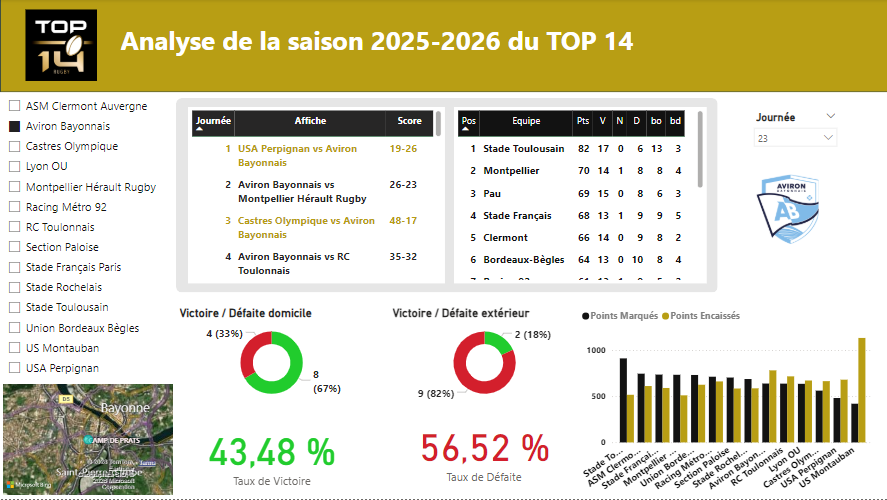

This screenshot's page, from the dashboard's own definition file:
{"tool":"powerbi","page":{"name":"Doublon de Doublon de Page 1","canvas":[1280,720],"ordinal":2},"visuals":[{"type":"shape","box":[254,142.6,780.1,280.3],"z":0},{"type":"slicer","title":"jj","fields":{"Values":["top14_teams.team_name"]},"box":[0,134.4,231.1,416.3],"z":1000},{"type":"map","title":"Stades","fields":{"Y":["top14_teams.latitude"],"X":["top14_teams.longitude"]},"box":[0,550.7,254,168.8],"z":2000},{"type":"shape","box":[0,0,1280,134.4],"z":3000},{"type":"textbox","box":[168.8,29.5,770.3,103.3],"z":4000},{"type":"tableEx","fields":{"Values":["top14_matches.journée","top14_matches.Affiche","top14_matches.Score final"]},"box":[270.4,155.7,370.4,254],"z":5000},{"type":"tableEx","fields":{"Values":["classements.position","classements.equipe","classements.points","classements.victoires","classements.nulls","classements.défaites","classements.bo","classements.bd"]},"box":[653.9,155.7,363.8,254],"z":6000},{"type":"slicer","fields":{"Values":["classements.journee"]},"box":[1075,155,140,70],"z":7000},{"type":"donutChart","title":"Victoire / Défaite domicile","fields":{"Y":["top14_matches.VictoiresDomicile","top14_matches.DefaiteDomicile"]},"box":[254,442.5,275.3,144.2],"z":8000},{"type":"donutChart","title":"Victoire / Défaite extérieur","fields":{"Y":["top14_matches.VictoiresExterieur","top14_matches.DefaiteExterieur"]},"box":[560.5,442.5,275.3,144.2],"z":9000},{"type":"card","fields":{"Values":["top14_matches.PourcentVictoire"]},"box":[285.2,591.7,213.1,127.8],"z":10000},{"type":"card","fields":{"Values":["top14_matches.PourcentDéfaite"]},"box":[596.6,591.7,201.6,114.7],"z":11000},{"type":"tableEx","fields":{"Values":["top14_teams.badge_url"]},"box":[1075,225,153.3,168.3],"z":12000},{"type":"shape","box":[1075.6,232.2,110,21.1],"z":13000},{"type":"clusteredColumnChart","fields":{"Category":["top14_teams.team_name"],"Y":["top14_matches.PointsMarques","top14_matches.PointsEncaisses"]},"box":[832.6,436,429.4,283.5],"z":14000},{"type":"image","box":[31.1,9.8,113.1,113.1],"z":15000}]}

Visuals, with their boxes in screenshot pixels (x1, y1, x2, y2), scaled from the page's 1280x720 canvas onto the 887x500 screenshot:
shape: bbox=[176, 99, 717, 294]
"jj" slicer: bbox=[0, 93, 160, 382]
"Stades" map: bbox=[0, 382, 176, 499]
shape: bbox=[0, 0, 886, 93]
textbox: bbox=[117, 20, 651, 92]
tableEx - top14_matches.journée x top14_matches.Affiche: bbox=[187, 108, 444, 285]
tableEx - classements.position x classements.equipe: bbox=[453, 108, 705, 285]
slicer - classements.journee: bbox=[745, 108, 842, 156]
"Victoire / Défaite domicile" donutChart: bbox=[176, 307, 367, 407]
"Victoire / Défaite extérieur" donutChart: bbox=[388, 307, 579, 407]
card - top14_matches.PourcentVictoire: bbox=[198, 411, 345, 499]
card - top14_matches.PourcentDéfaite: bbox=[413, 411, 553, 491]
tableEx - top14_teams.badge_url: bbox=[745, 156, 851, 273]
shape: bbox=[745, 161, 822, 176]
clusteredColumnChart - top14_teams.team_name x top14_matches.PointsMarques: bbox=[577, 303, 875, 499]
image: bbox=[22, 7, 100, 85]
